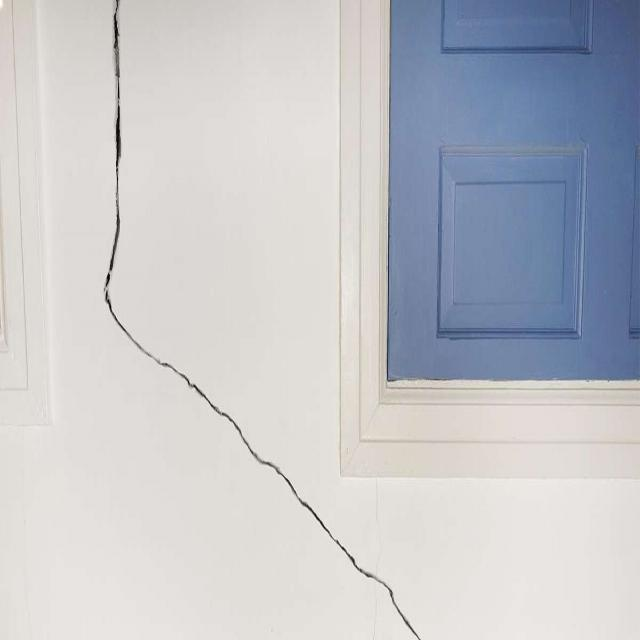leak: (105, 302, 420, 640), (99, 1, 132, 301)
